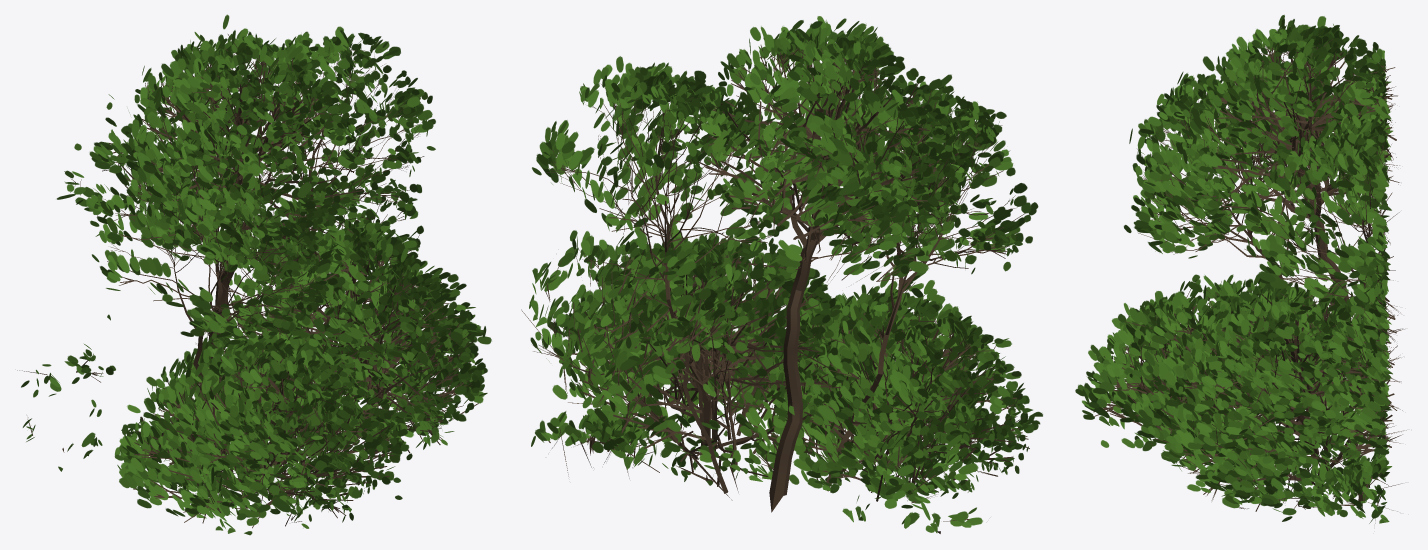
The picture shows the model from 3 angles, left to right: view 1: azimuth 30°, elevation 25°; view 2: azimuth 150°, elevation 25°; view 3: azimuth 270°, elevation 25°; orthographic projection. The views are drawn at different scales.
Visible parts, largest first — view 1: oak 01.001_trunk_Mat.001_0.232; view 2: oak 01.001_trunk_Mat.001_0.232; view 3: oak 01.001_trunk_Mat.001_0.232.
Boxes of the visible parts, left/top/right/bottom form: oak 01.001_trunk_Mat.001_0.232: left=17, top=14, right=491, bottom=535; oak 01.001_trunk_Mat.001_0.232: left=521, top=16, right=1042, bottom=533; oak 01.001_trunk_Mat.001_0.232: left=1075, top=14, right=1406, bottom=523.
Bounding box in the file's own units: 5.03 × 5.02 × 3.66.
Materials: 2 (1 with a texture image).
